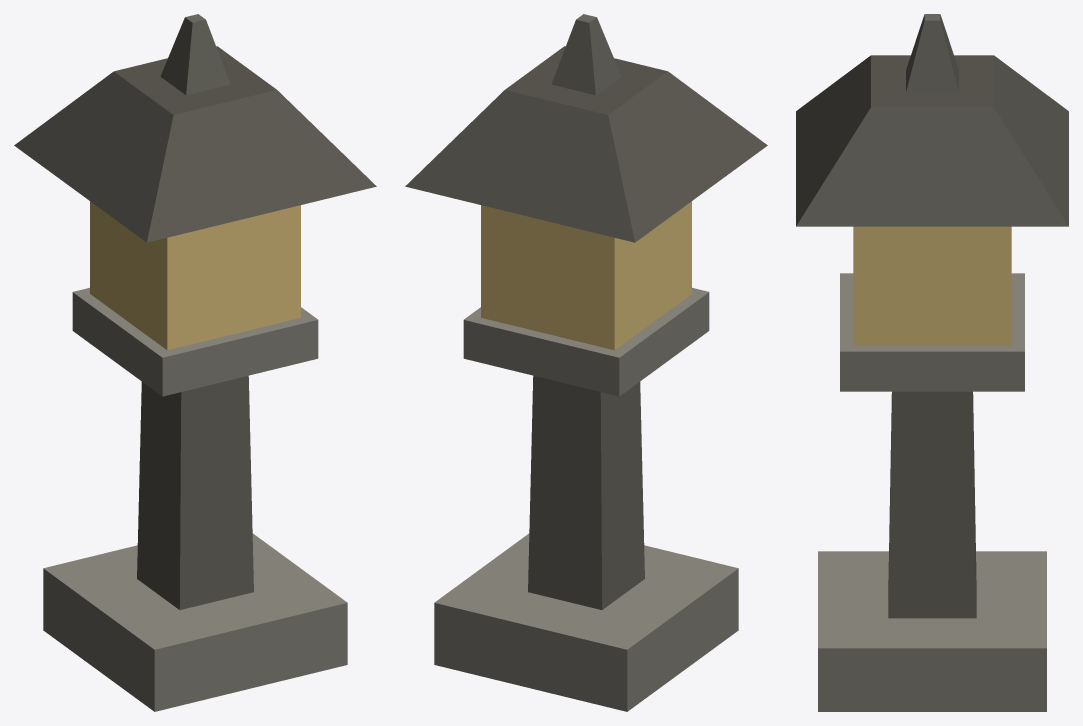
File: stone_lantern.glb
The picture shows the model from 3 angles, left to right: view 1: azimuth 30°, elevation 25°; view 2: azimuth 150°, elevation 25°; view 3: azimuth 270°, elevation 25°; orthographic projection. The views are drawn at different scales.
Visible parts, largest first — view 1: stone_lantern; view 2: stone_lantern; view 3: stone_lantern.
Part boxes in pixels (x1,y1,x2,y2): stone_lantern: [14, 14, 376, 711]; stone_lantern: [405, 14, 767, 711]; stone_lantern: [796, 14, 1068, 711].
Size of the model in its own units: 0.62 by 1.62 by 0.62.
Materials: 1 (1 with a texture image).
